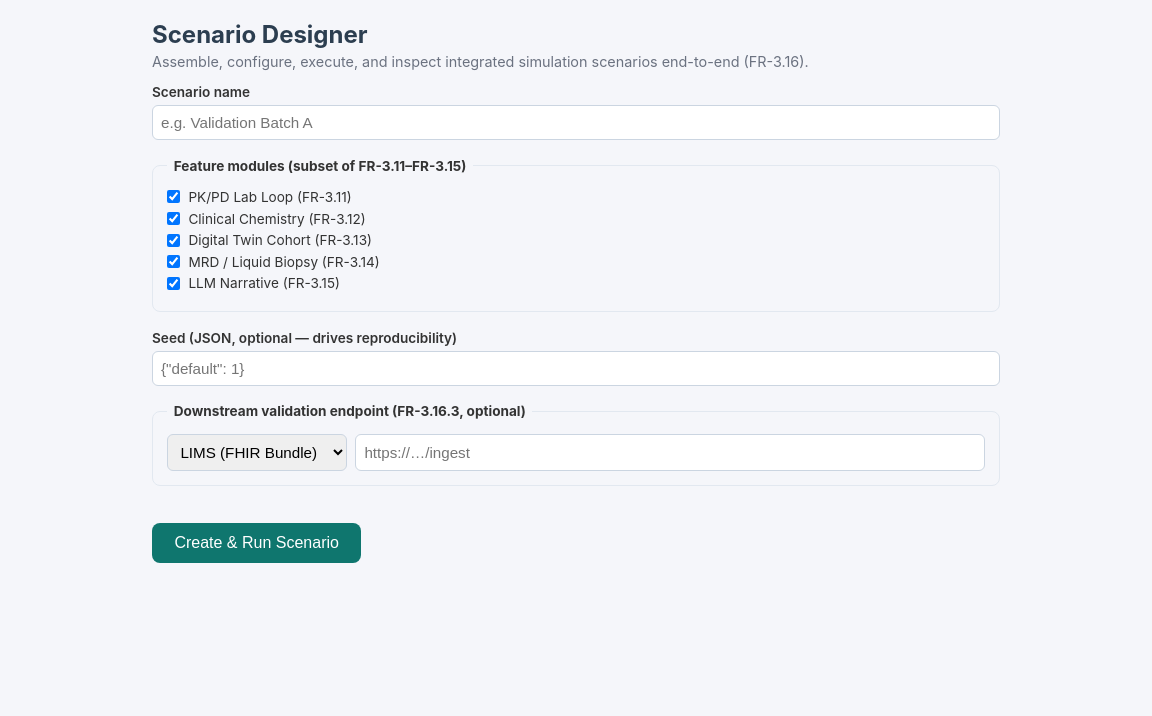
Scenario: NFR-U4 — Scenario Designer assembled & executed in <=5 interactions › minimal path: a single click on "Create & Run" executes the default scenario
Click the button "Create & Run Scenario" at (257, 543), box [152, 523, 361, 563]
(page scrolled)
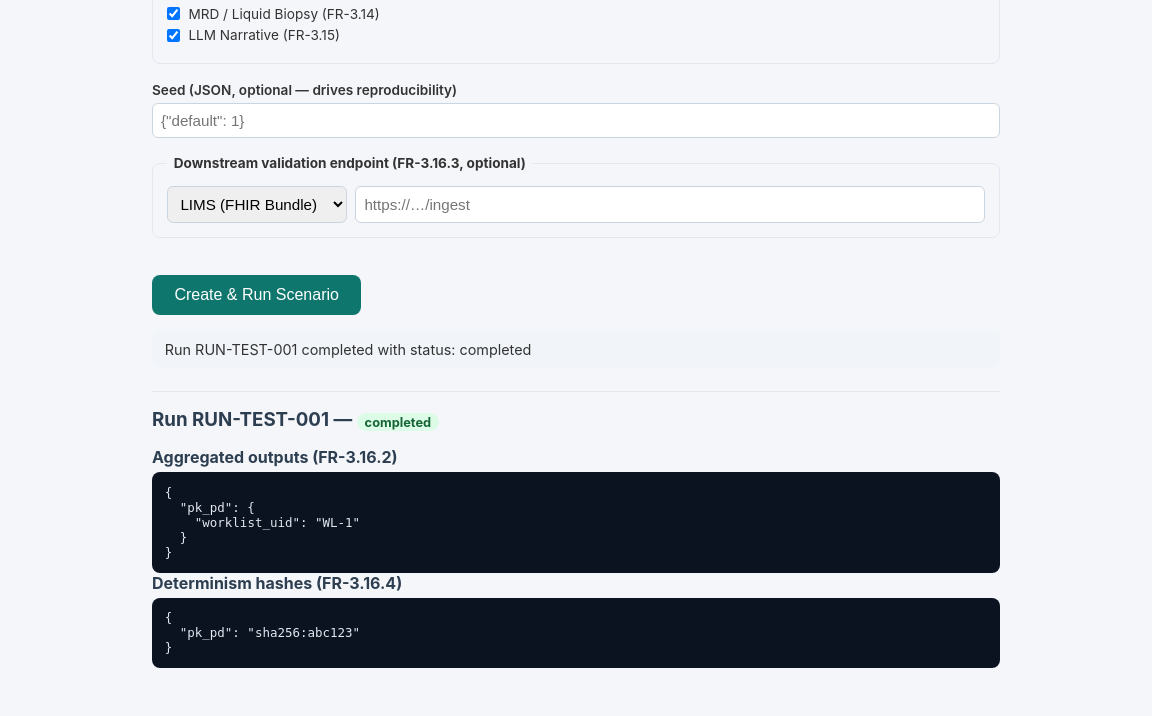
Result: the text "Run RUN-TEST-001 completed with status: completed" is shown at [152, 331, 1000, 368]
Result: the heading "Aggregated outputs (FR-3.16.2)" is shown at [152, 447, 398, 467]
Result: the heading "Determinism hashes (FR-3.16.4)" is shown at [152, 573, 402, 593]
